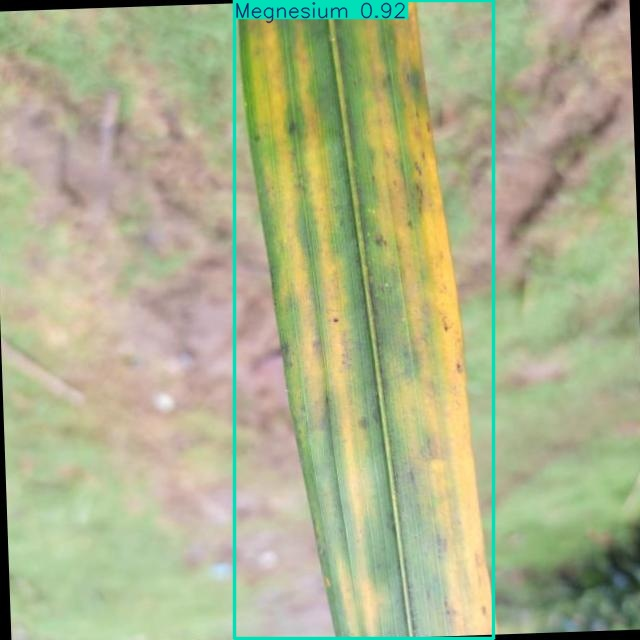Megnesium: (234, 0, 493, 639)
